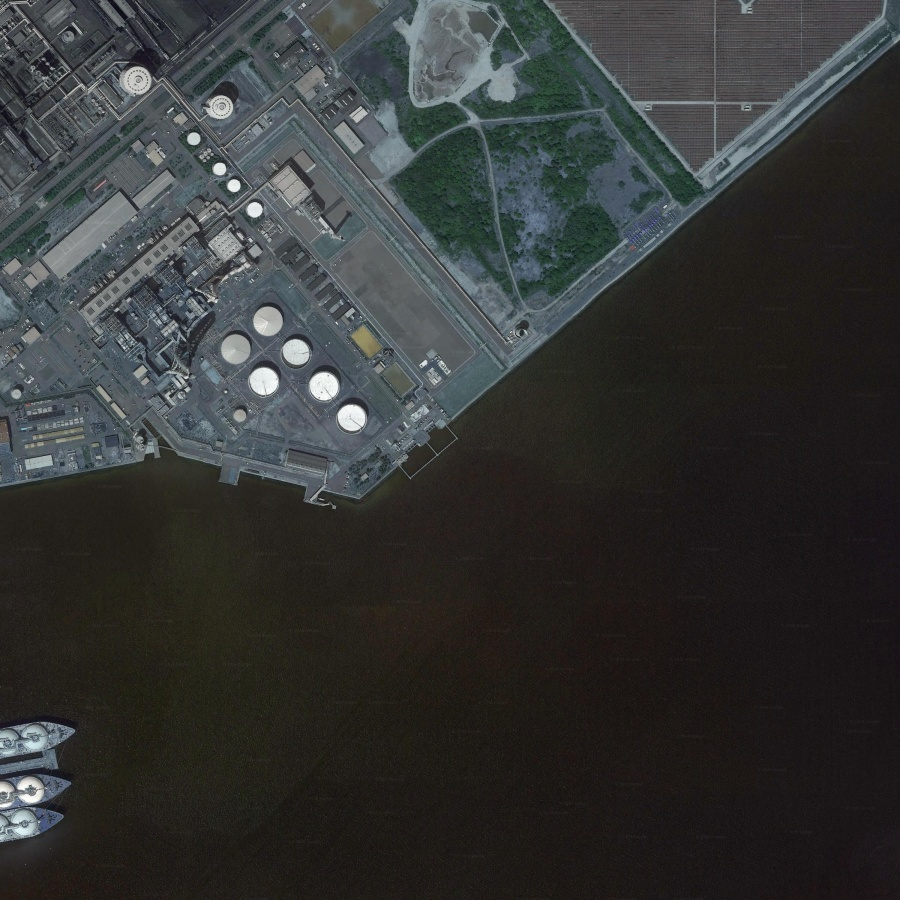PowerPlant: (88, 52, 389, 432)
